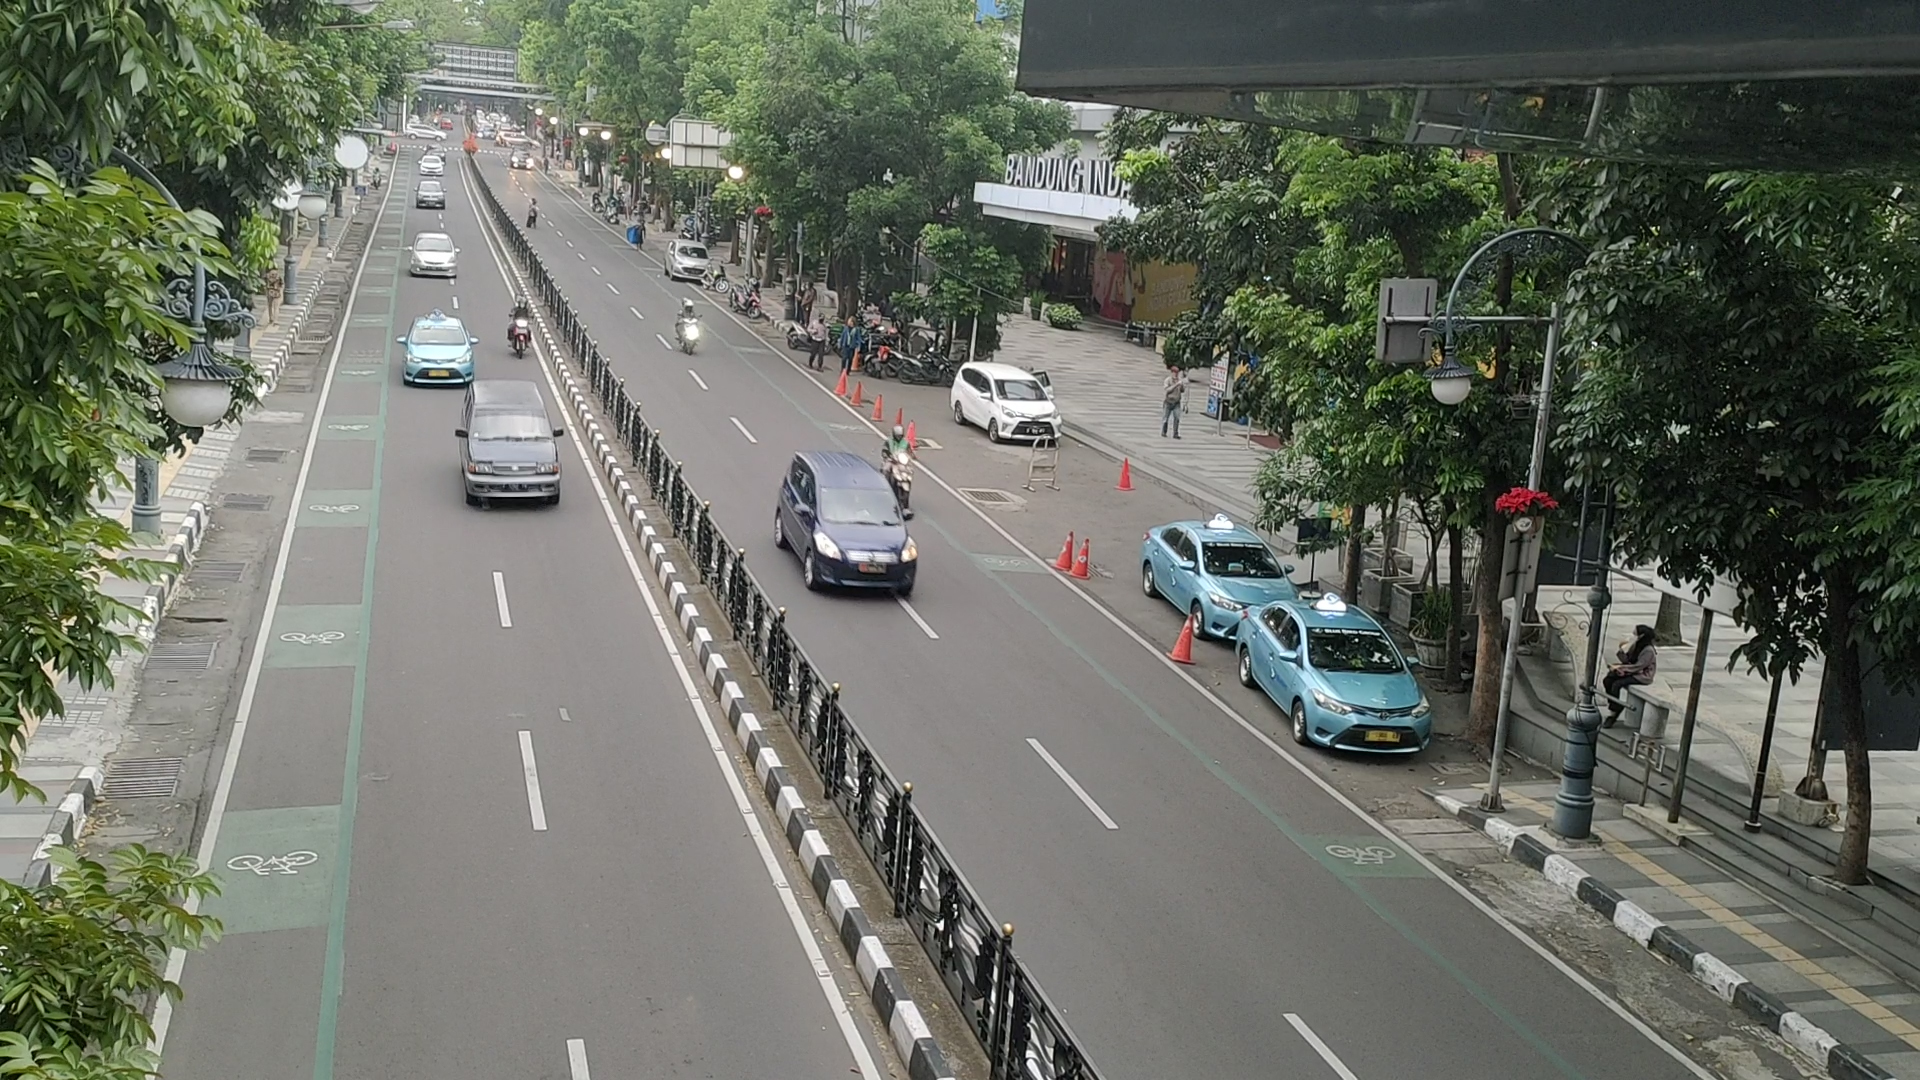mobil: (1288, 622, 1433, 764), (796, 483, 919, 603), (462, 406, 560, 512), (986, 373, 1062, 444), (400, 323, 477, 386)
